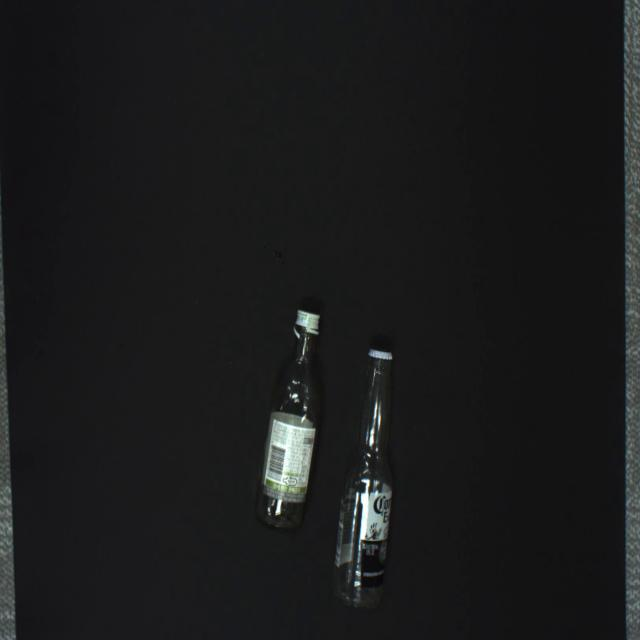beer-bottle: (332, 349, 394, 609)
soju-bottle: (255, 309, 322, 532)
